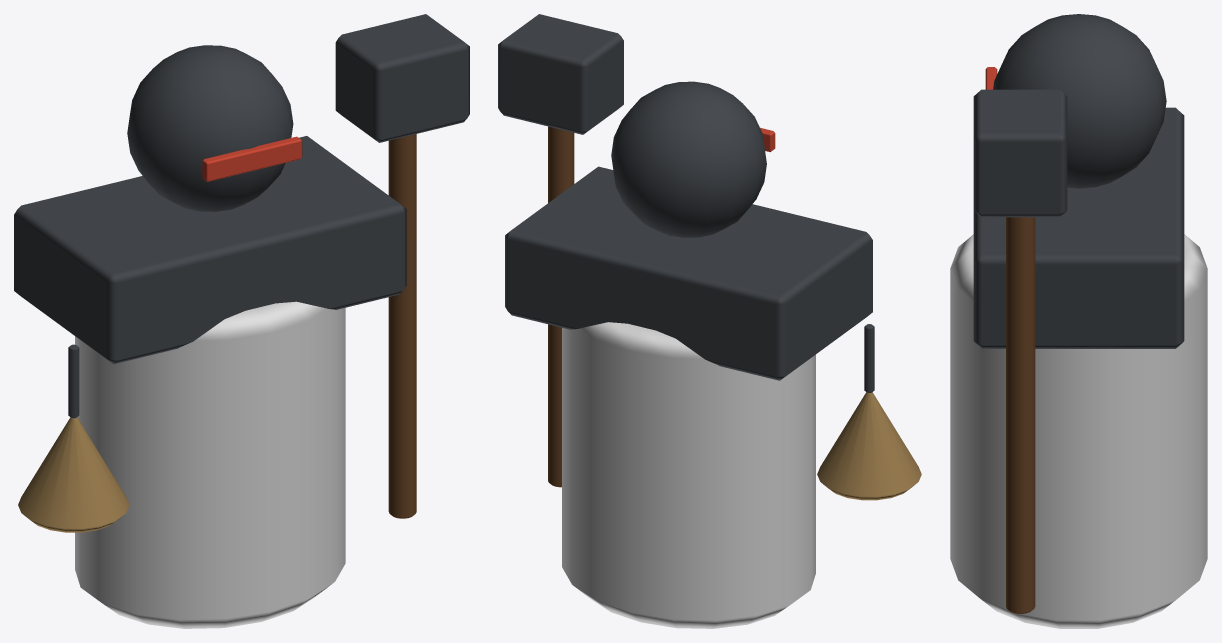
The model's file is armored-brute.8a455658.glb.
3 views of the same model, side by side, from view 1: azimuth 30°, elevation 25°; view 2: azimuth 150°, elevation 25°; view 3: azimuth 270°, elevation 25° (orthographic). The views are drawn at different scales.
Visible parts, largest first — view 1: body, accent; view 2: body, accent; view 3: body, accent.
Boxes of the visible parts, box(x1,y1,x2,y2) form: body: box(14, 14, 469, 532); accent: box(75, 301, 345, 628); body: box(498, 14, 921, 500); accent: box(562, 322, 815, 628); body: box(973, 14, 1184, 613); accent: box(950, 234, 1207, 628).
Bounding box in the file's own units: 0.8785 × 1.05 × 0.44.
